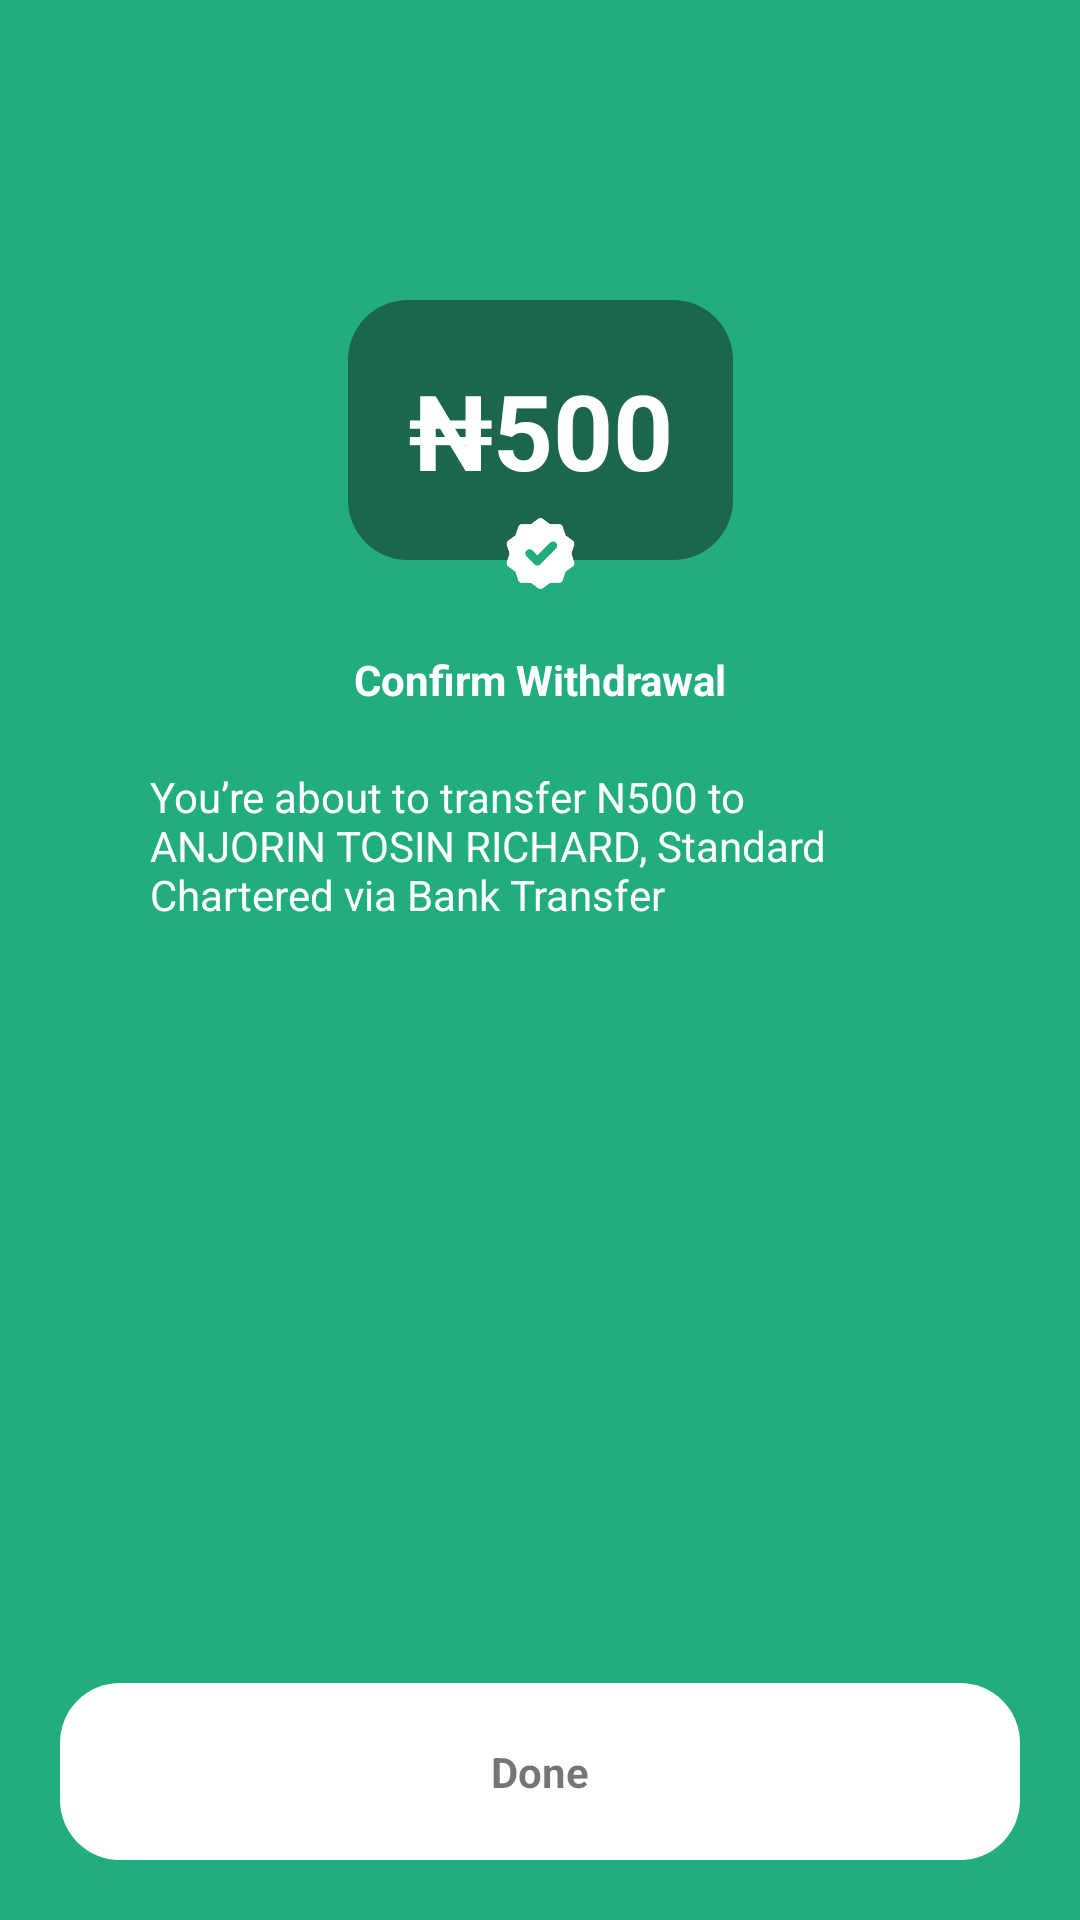

Icon click points for this 1080×1920 phone screenshot, format (x,y):
pass: (540,553)
